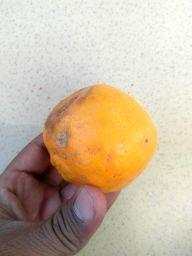Unripe: (41, 85, 161, 190)
